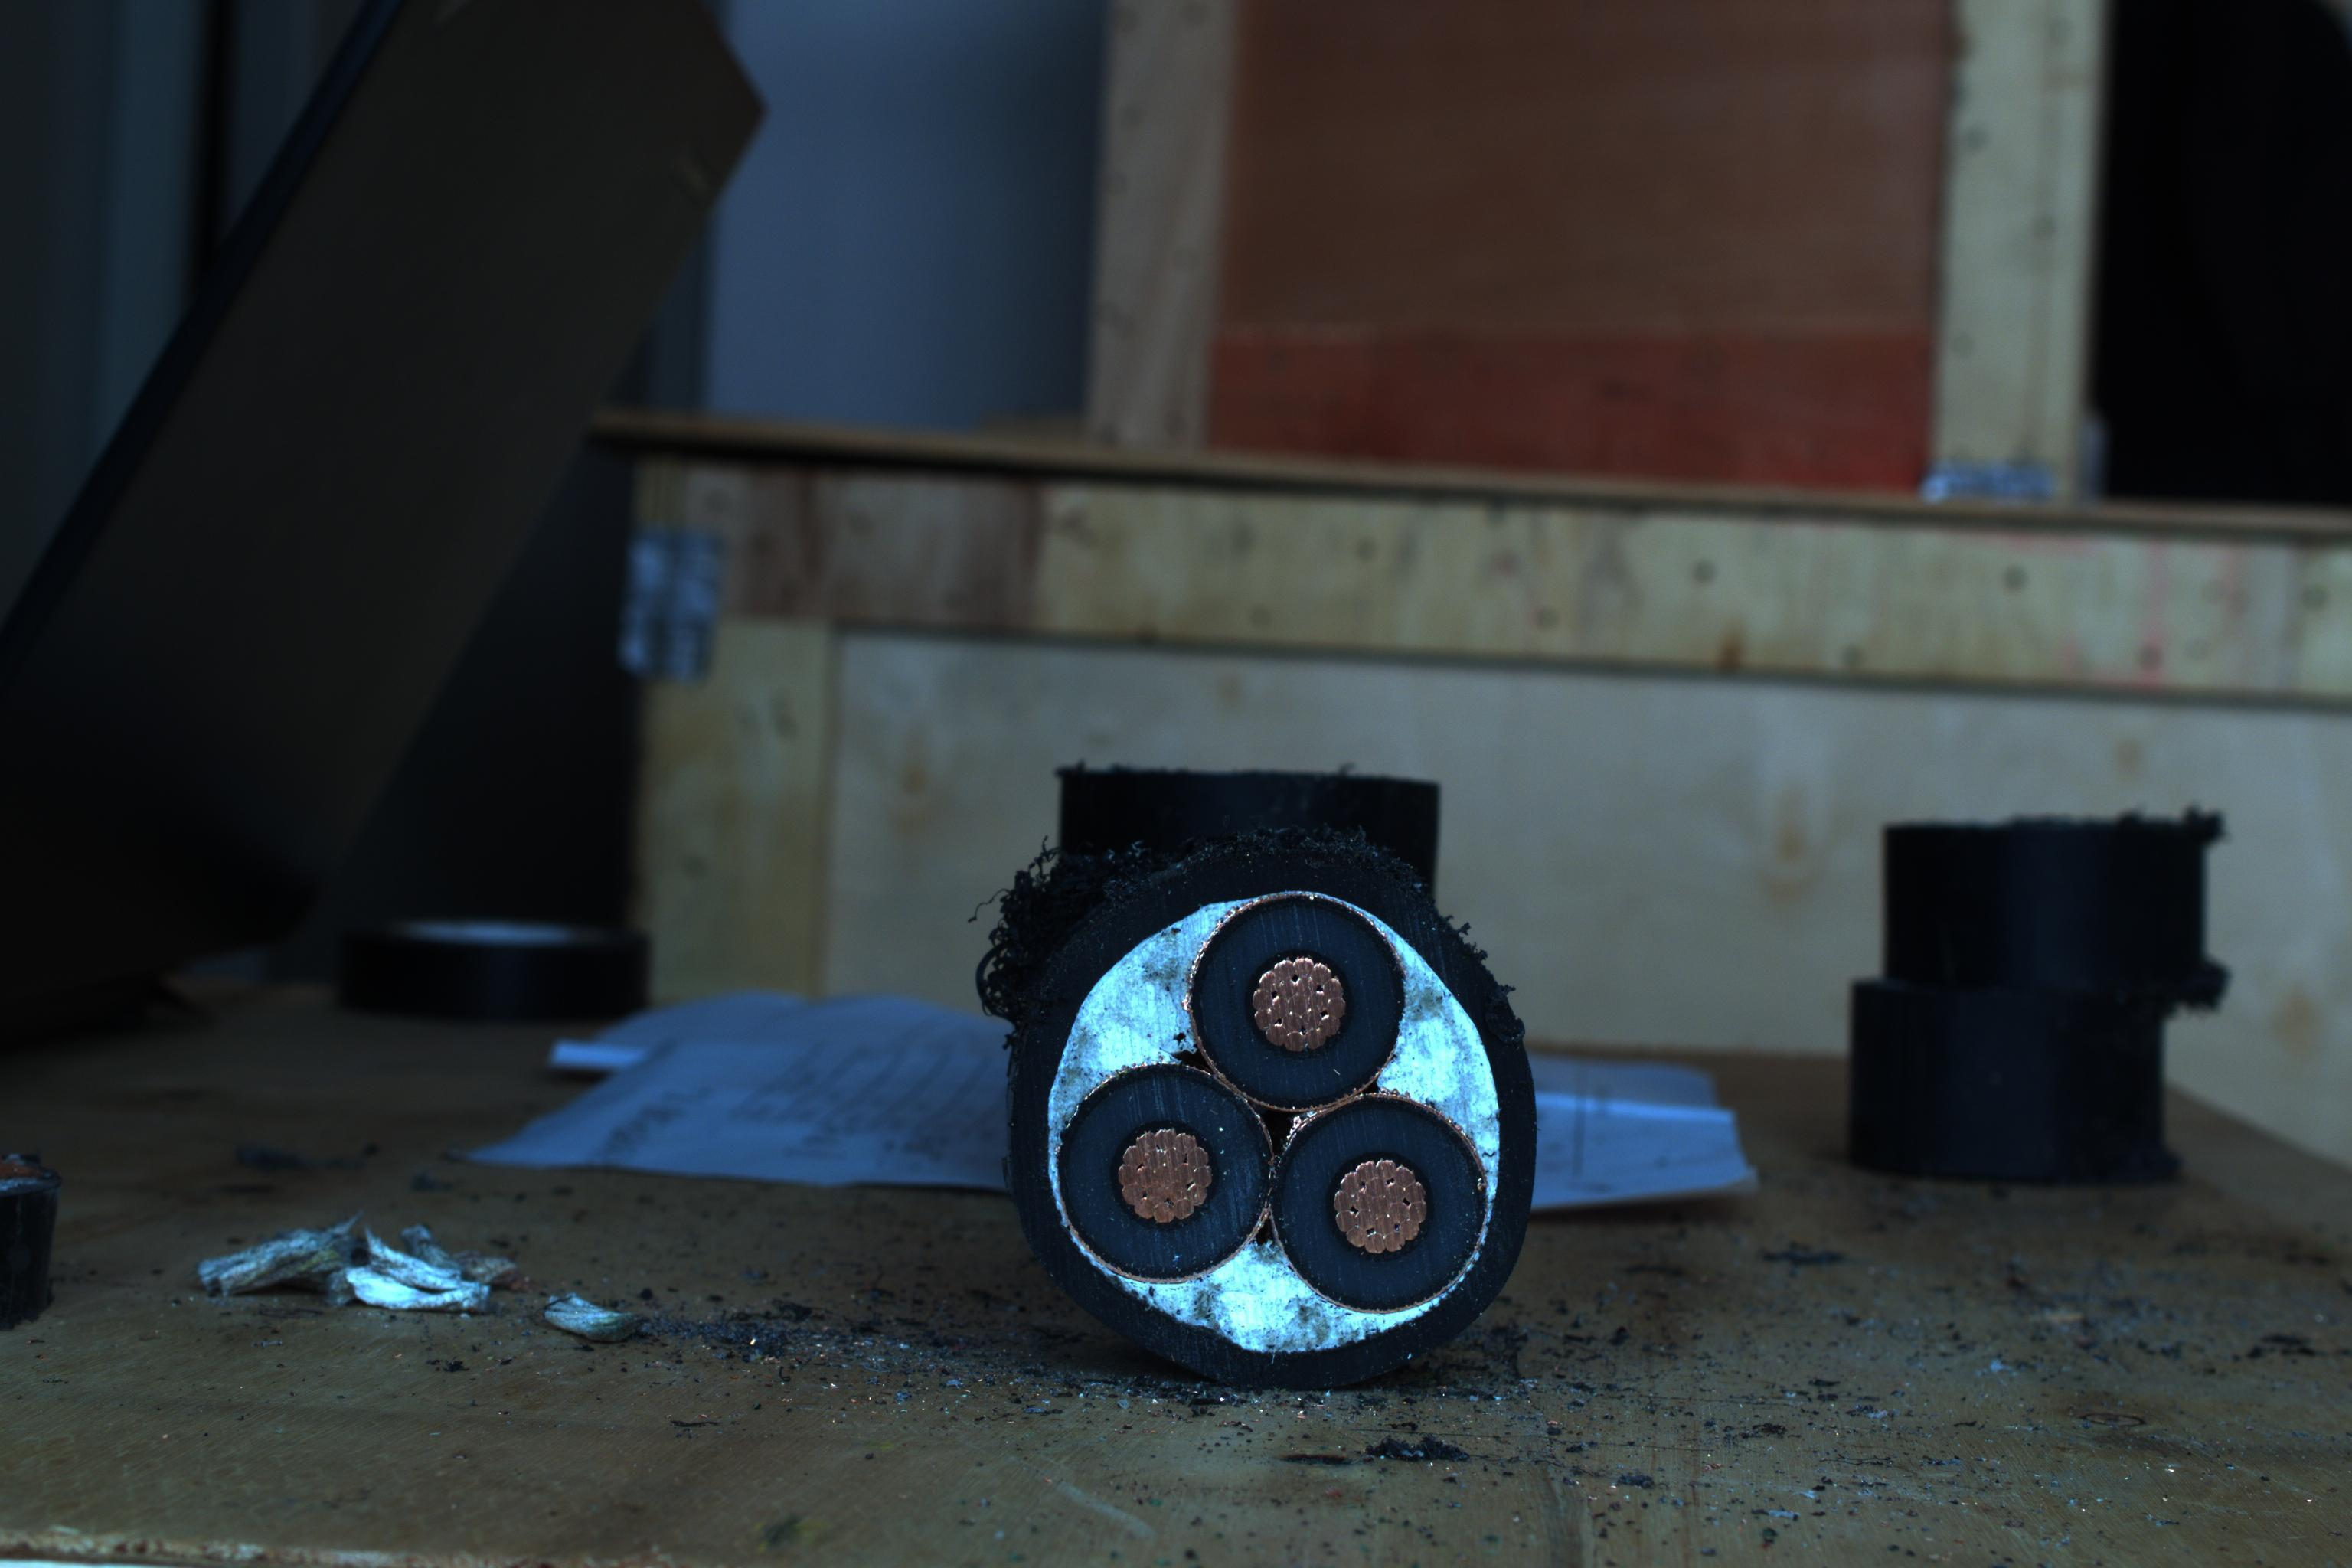YJV_8.7_10kV_3x70: (1017, 873, 1554, 1391)
